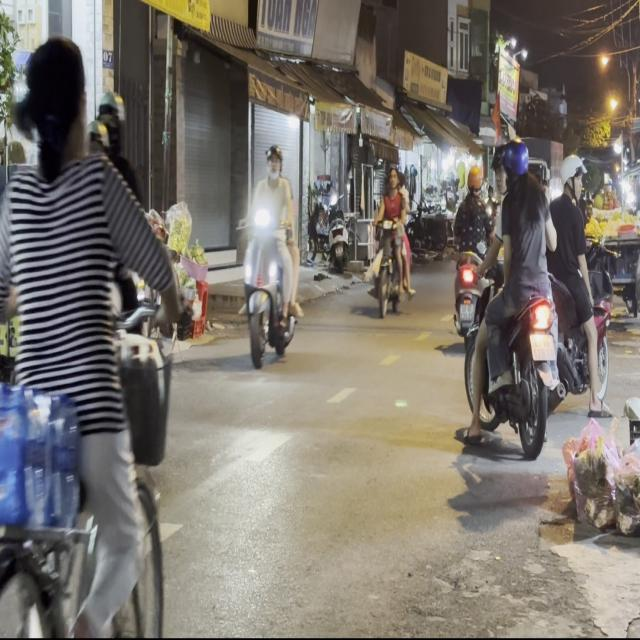helmet: (90, 89, 124, 159), (500, 139, 530, 188), (560, 152, 584, 198), (264, 141, 282, 177), (464, 162, 481, 196)
licenseplate: (0, 29, 181, 632), (460, 133, 559, 459), (545, 150, 602, 410), (238, 140, 302, 368), (448, 159, 492, 350)
motorcyclist: (20, 33, 90, 170)
nohelmet: (530, 333, 555, 359), (460, 301, 474, 318)
